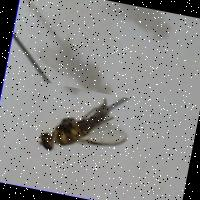Oriental-fruit-fly: (21, 79, 138, 173)
